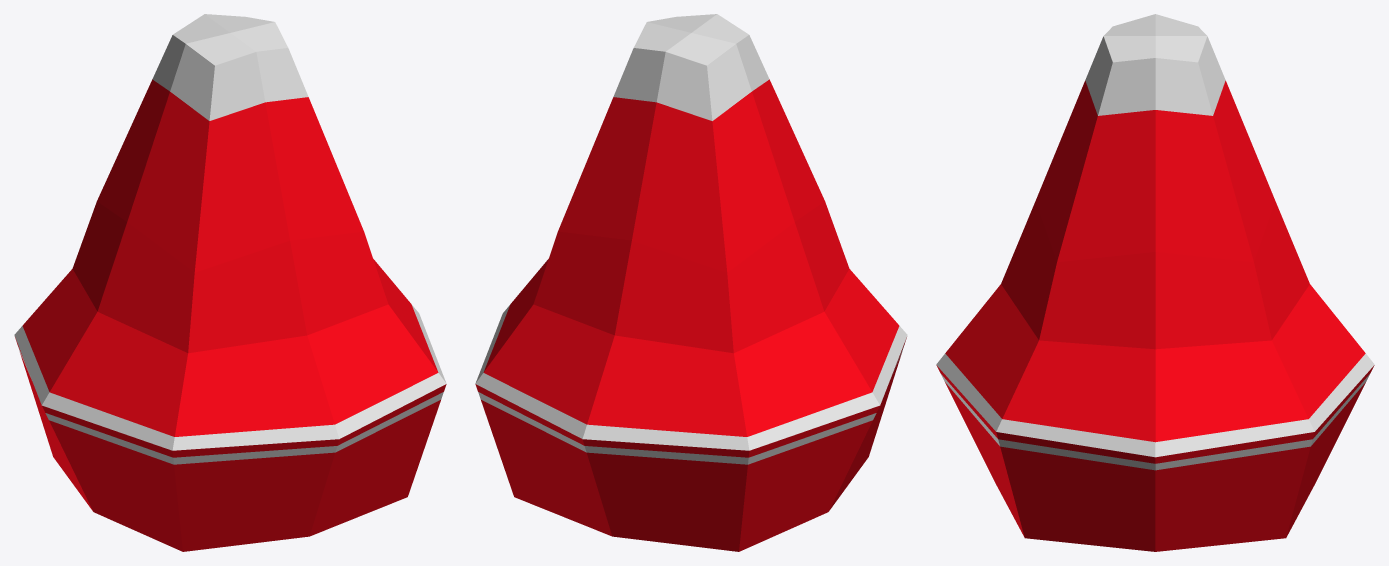
Rendered from luz rojo.fbx.
3 views of the same model, side by side, from view 1: azimuth 30°, elevation 25°; view 2: azimuth 150°, elevation 25°; view 3: azimuth 270°, elevation 25° (orthographic).
Parts seen in each view (by area): view 1: Cube; view 2: Cube; view 3: Cube.
Part boxes in pixels (x1,y1,x2,y2): Cube: [14, 14, 446, 551]; Cube: [475, 14, 907, 551]; Cube: [936, 14, 1374, 551].
Size of the model in its own units: 298 by 378 by 298.
